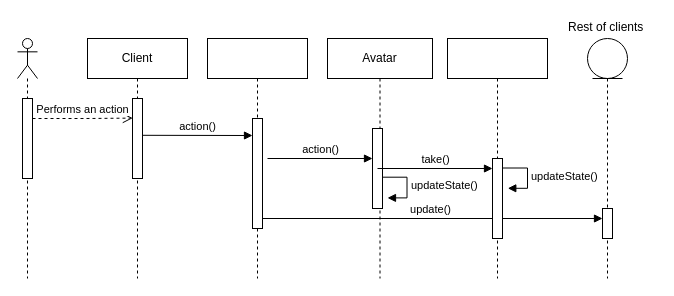
Image size: 674x296. Some labels were removed from this diagram. Here are the shapes that lost their labels. From the top down, the centre of each, then its label:
At point 257,158: "Geographical Server".
At point 497,158: "Decoration".
